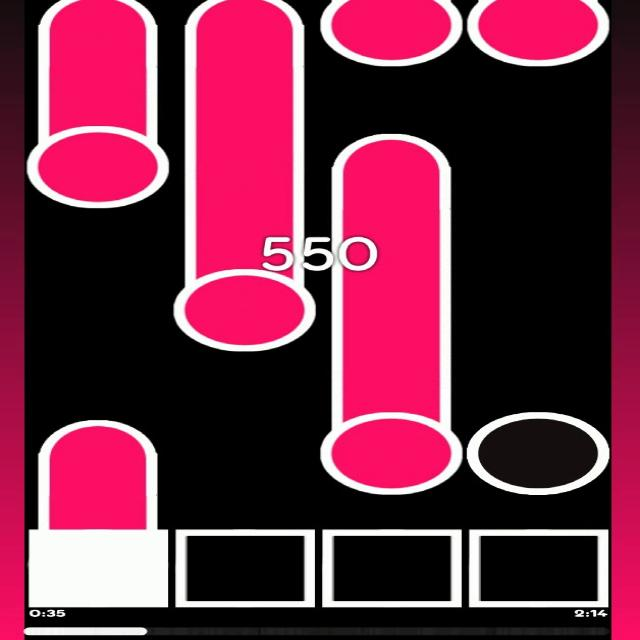end_hold: (28, 396, 173, 458), (322, 114, 454, 174), (26, 0, 168, 33), (179, 0, 312, 35)
note: (468, 408, 608, 497)
start_hold: (26, 109, 170, 211), (320, 393, 463, 494), (173, 250, 314, 351), (319, 0, 464, 71), (466, 0, 610, 69)
